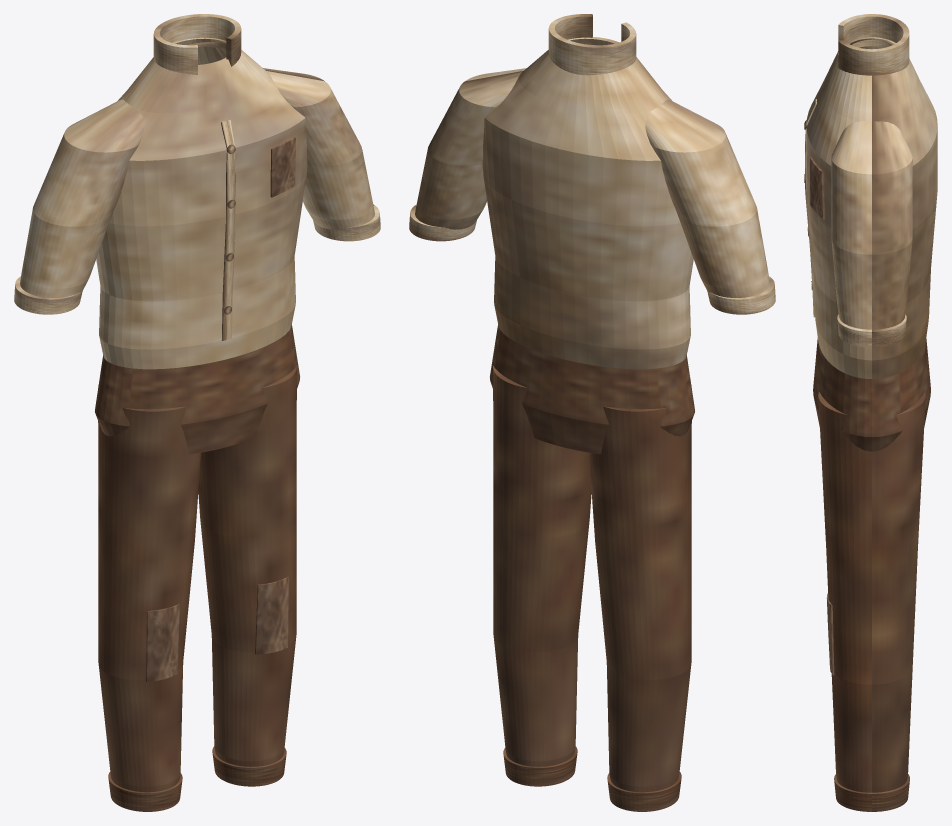
3 renders of one model, left to right at view 1: azimuth 30°, elevation 25°; view 2: azimuth 150°, elevation 25°; view 3: azimuth 270°, elevation 25°, orthographic.
Visible parts, largest first — view 1: shirt_body, left_trouser_leg, right_trouser_leg, left_shirt_sleeve, trouser_hips, right_shirt_sleeve, shirt_collar, right_trouser_patch, left_trouser_patch, shirt_placket, right_trouser_cuff, left_trouser_cuff (+3 smaller); view 2: shirt_body, left_trouser_leg, right_trouser_leg, left_shirt_sleeve, trouser_hips, right_shirt_sleeve, shirt_collar, right_trouser_cuff, left_trouser_cuff, left_shirt_cuff, right_shirt_cuff; view 3: right_trouser_leg, shirt_body, right_shirt_sleeve, trouser_hips, shirt_collar, right_trouser_cuff, right_shirt_cuff, shirt_chest_patch, shirt_placket, right_trouser_patch.
Part boxes in pixels (box(x1,y1,x2,y2)): shirt_body: box(96, 37, 307, 369); left_trouser_leg: box(98, 385, 200, 792); right_trouser_leg: box(198, 365, 296, 766); left_shirt_sleeve: box(20, 99, 144, 297); trouser_hips: box(95, 324, 299, 454); right_shirt_sleeve: box(263, 68, 374, 229); shirt_collar: box(153, 14, 241, 74); right_trouser_patch: box(255, 577, 288, 654); left_trouser_patch: box(146, 604, 179, 681); shirt_placket: box(221, 120, 235, 340); right_trouser_cuff: box(212, 746, 286, 786); left_trouser_cuff: box(108, 772, 182, 811); shirt_body: box(482, 37, 693, 369); left_trouser_leg: box(589, 385, 691, 792); right_trouser_leg: box(493, 365, 591, 766); left_shirt_sleeve: box(645, 99, 769, 297); trouser_hips: box(490, 324, 694, 454); right_shirt_sleeve: box(415, 68, 526, 229); shirt_collar: box(548, 14, 636, 75); right_trouser_cuff: box(503, 746, 577, 786); left_trouser_cuff: box(607, 772, 681, 811); left_shirt_cuff: box(707, 276, 775, 314); right_shirt_cuff: box(409, 204, 476, 241); right_trouser_leg: box(818, 392, 925, 792); shirt_body: box(806, 37, 937, 378); right_shirt_sleeve: box(831, 121, 912, 329); trouser_hips: box(813, 338, 930, 451); shirt_collar: box(838, 14, 909, 75); right_trouser_cuff: box(834, 774, 909, 811); right_shirt_cuff: box(837, 314, 906, 347); shirt_chest_patch: box(810, 157, 824, 219); shirt_placket: box(805, 99, 816, 317); right_trouser_patch: box(826, 593, 834, 675).
Bounding box in the file's own units: 56.09 × 113 × 18.45.
Materials: 4 (4 with a texture image).
